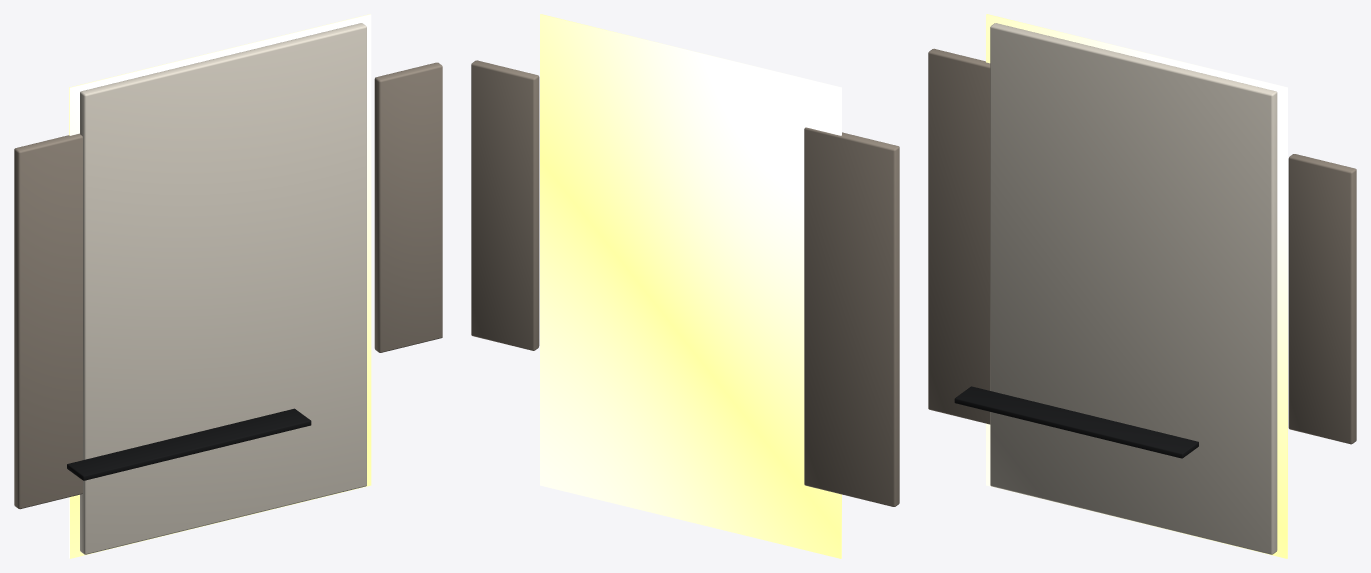
The model's file is bl_tv_wall.glb.
The picture shows the model from 3 angles, left to right: view 1: azimuth 30°, elevation 25°; view 2: azimuth 150°, elevation 25°; view 3: azimuth 330°, elevation 25°; orthographic projection.
Visible parts, largest first — view 1: panelMain, panelL, panelR, ledMain, shelf; view 2: ledMain, panelL, panelR; view 3: panelMain, panelL, panelR, ledMain, shelf.
Boxes of the visible parts, box(x1,y1,x2,y2) form: panelMain: box(80, 23, 366, 554); panelL: box(14, 133, 82, 509); panelR: box(374, 62, 442, 352); ledMain: box(69, 14, 371, 558); shelf: box(67, 408, 311, 480); ledMain: box(540, 14, 841, 558); panelL: box(804, 127, 899, 506); panelR: box(471, 60, 539, 350); panelMain: box(990, 23, 1277, 554); panelL: box(928, 48, 990, 424); panelR: box(1288, 154, 1356, 444); ledMain: box(986, 14, 1287, 558); shelf: box(954, 386, 1198, 458).
Size of the model in its own units: 2.6 by 2.76 by 0.26.
